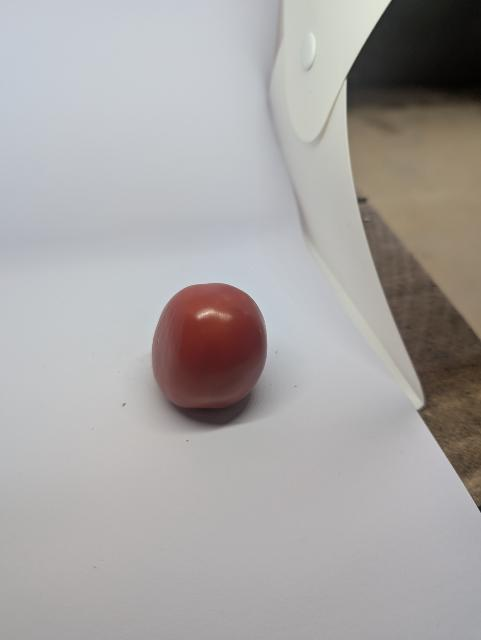red: (145, 271, 272, 431)
